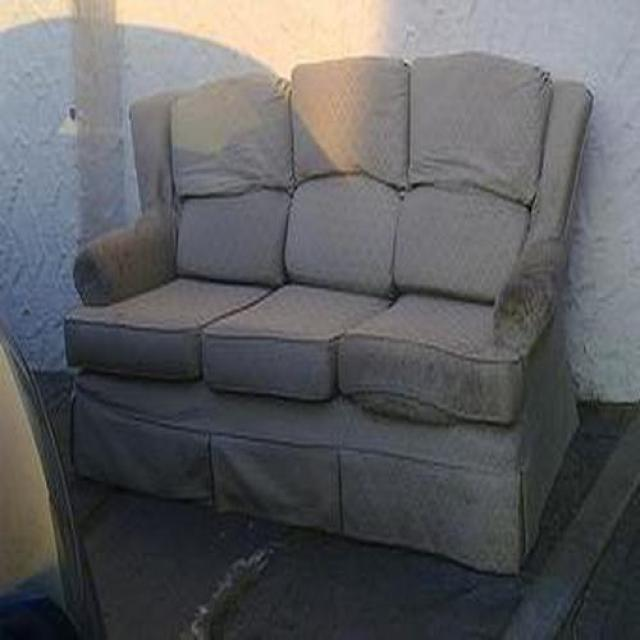sofa: (59, 52, 595, 580)
